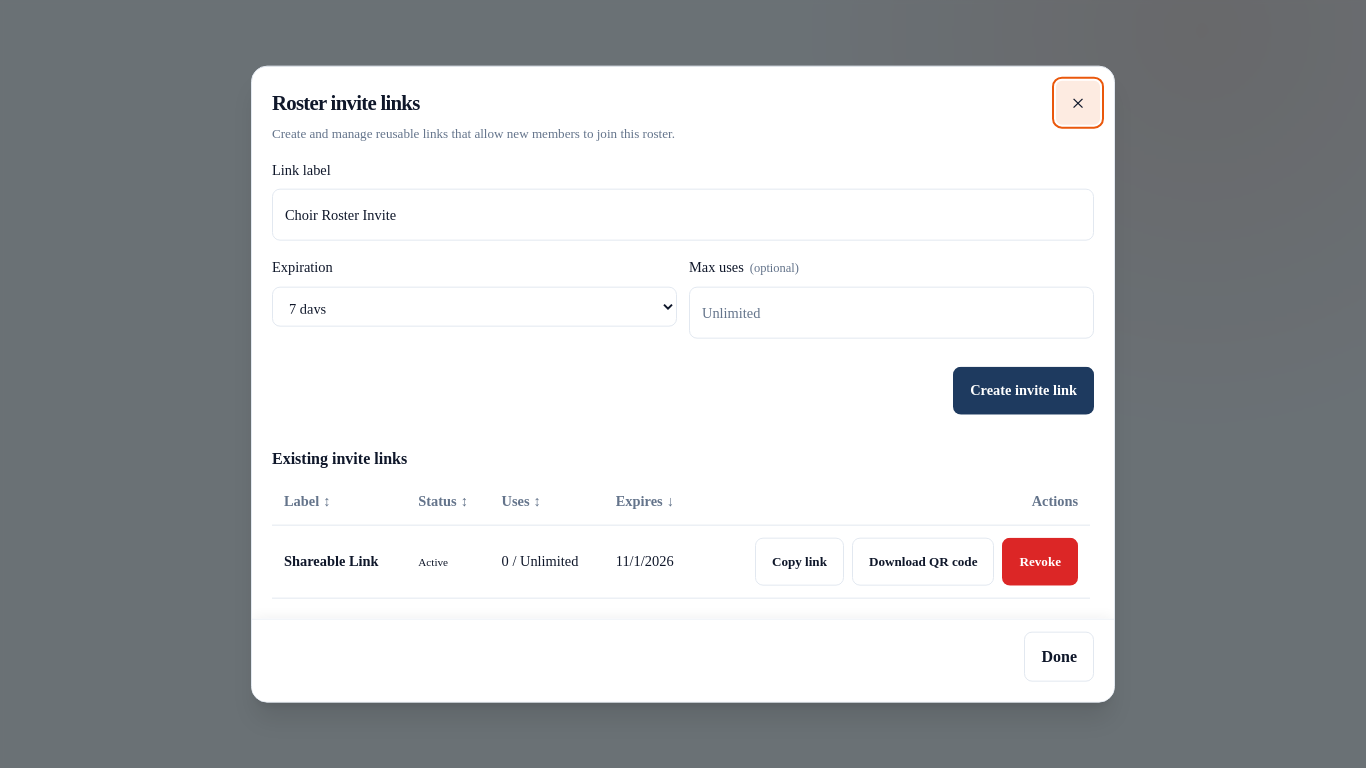
Scenario: RosterInviteLinksDialog UI interaction › copies share URL when copy link button is clicked
The width and height of the screenshot is (1366, 768).
Check: the text "Shareable Link" is shown, box [284, 552, 378, 568]
Step 1. Click the button "Copy link" → (799, 561), box [755, 537, 844, 585]
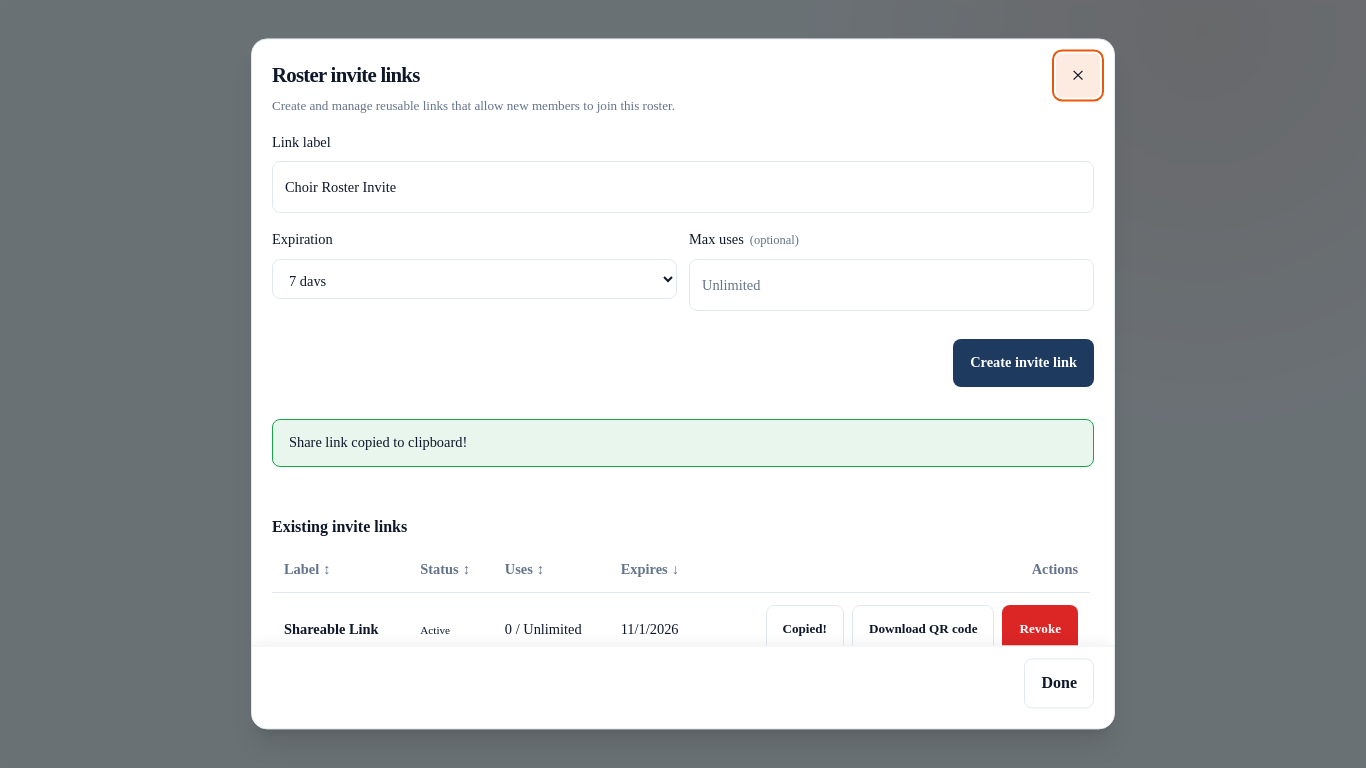
Check: the button "Copied!" is shown, box [766, 606, 844, 646]
